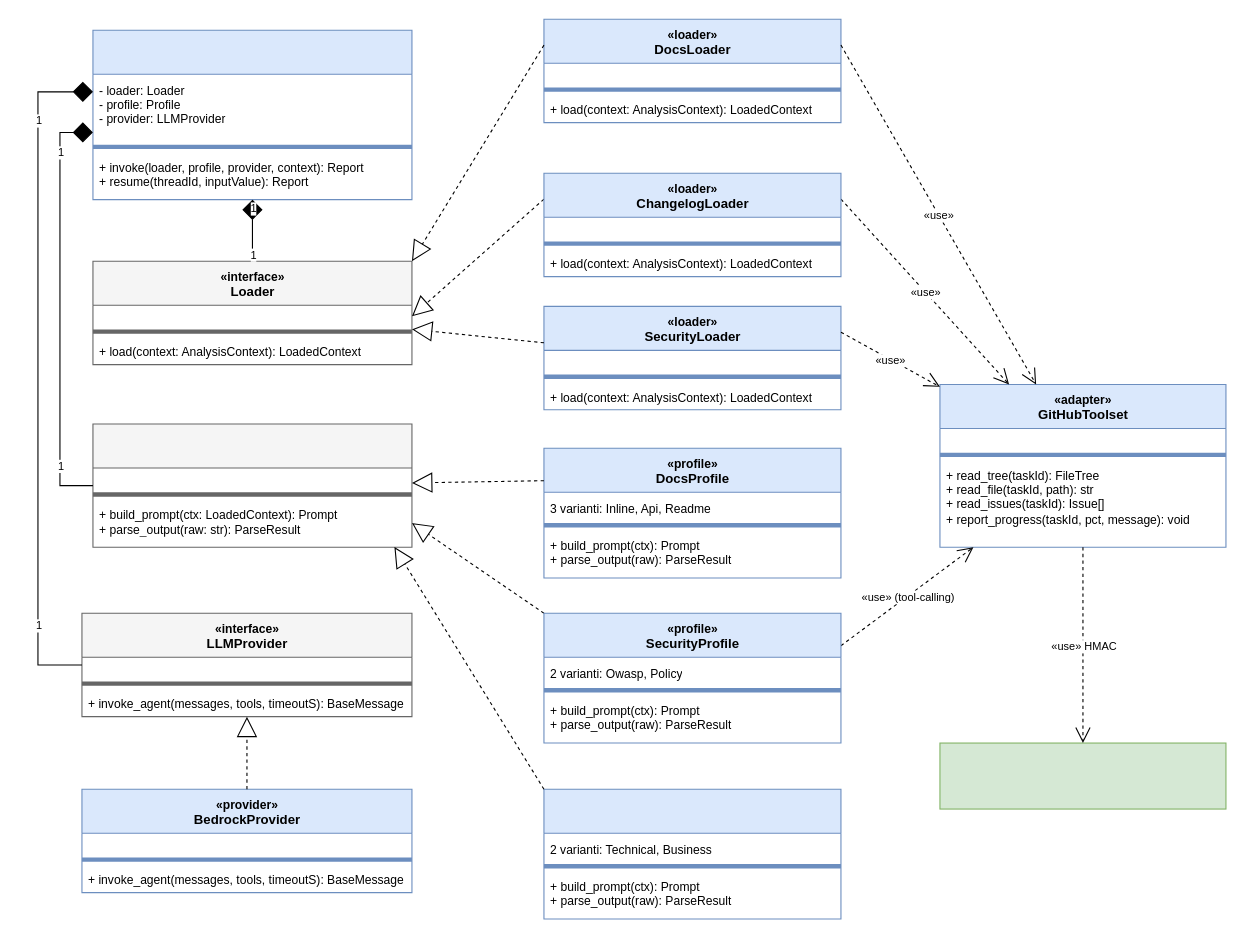
The diagram is 1247 pixels wide and 942 high, and some of its shapes have lost their labels. Each missing label, with the box of its shape:
Backend — API interna «external»: (939, 742, 1226, 809)
«graph» AgentGraph: (92, 29, 412, 200)
«interface» Profile: (92, 423, 412, 547)
«profile» ChangelogProfile: (543, 788, 841, 919)
